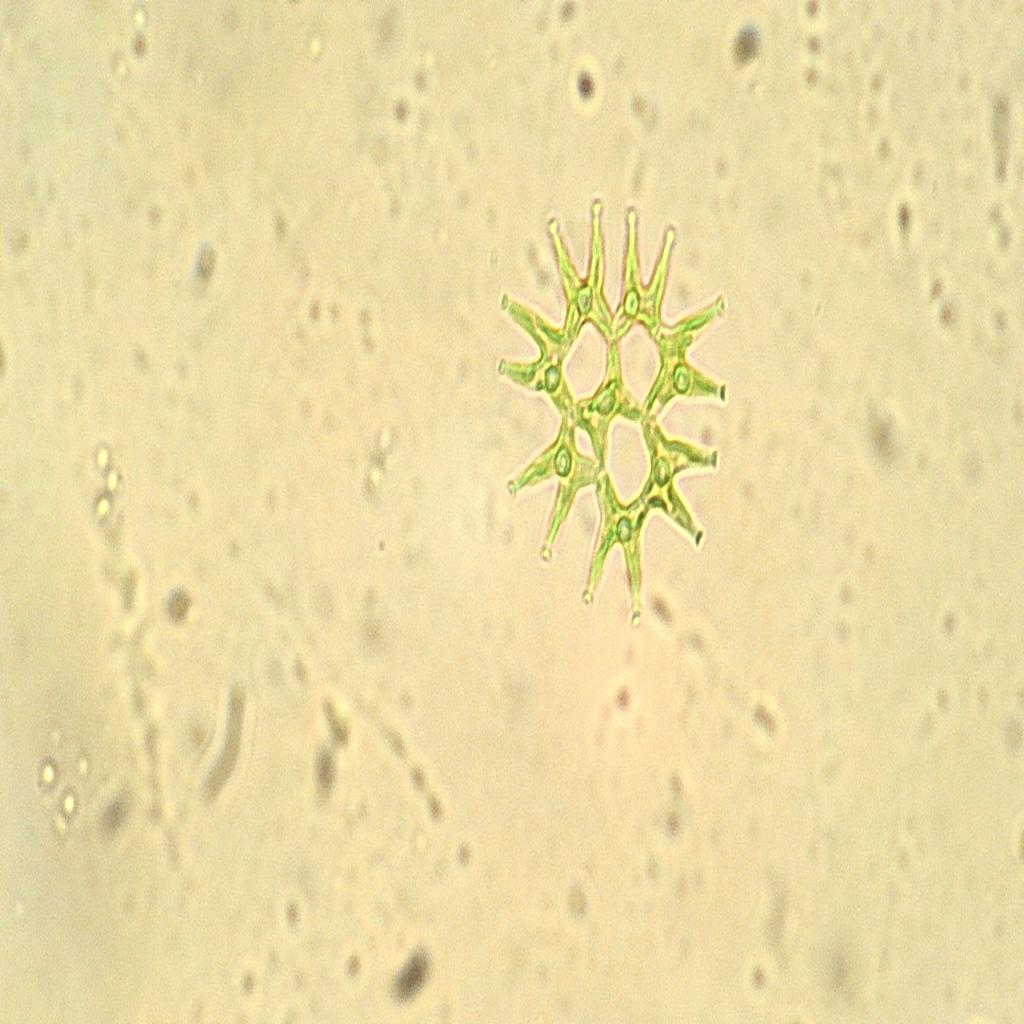Pediastrum_1T: (484, 178, 754, 640)
